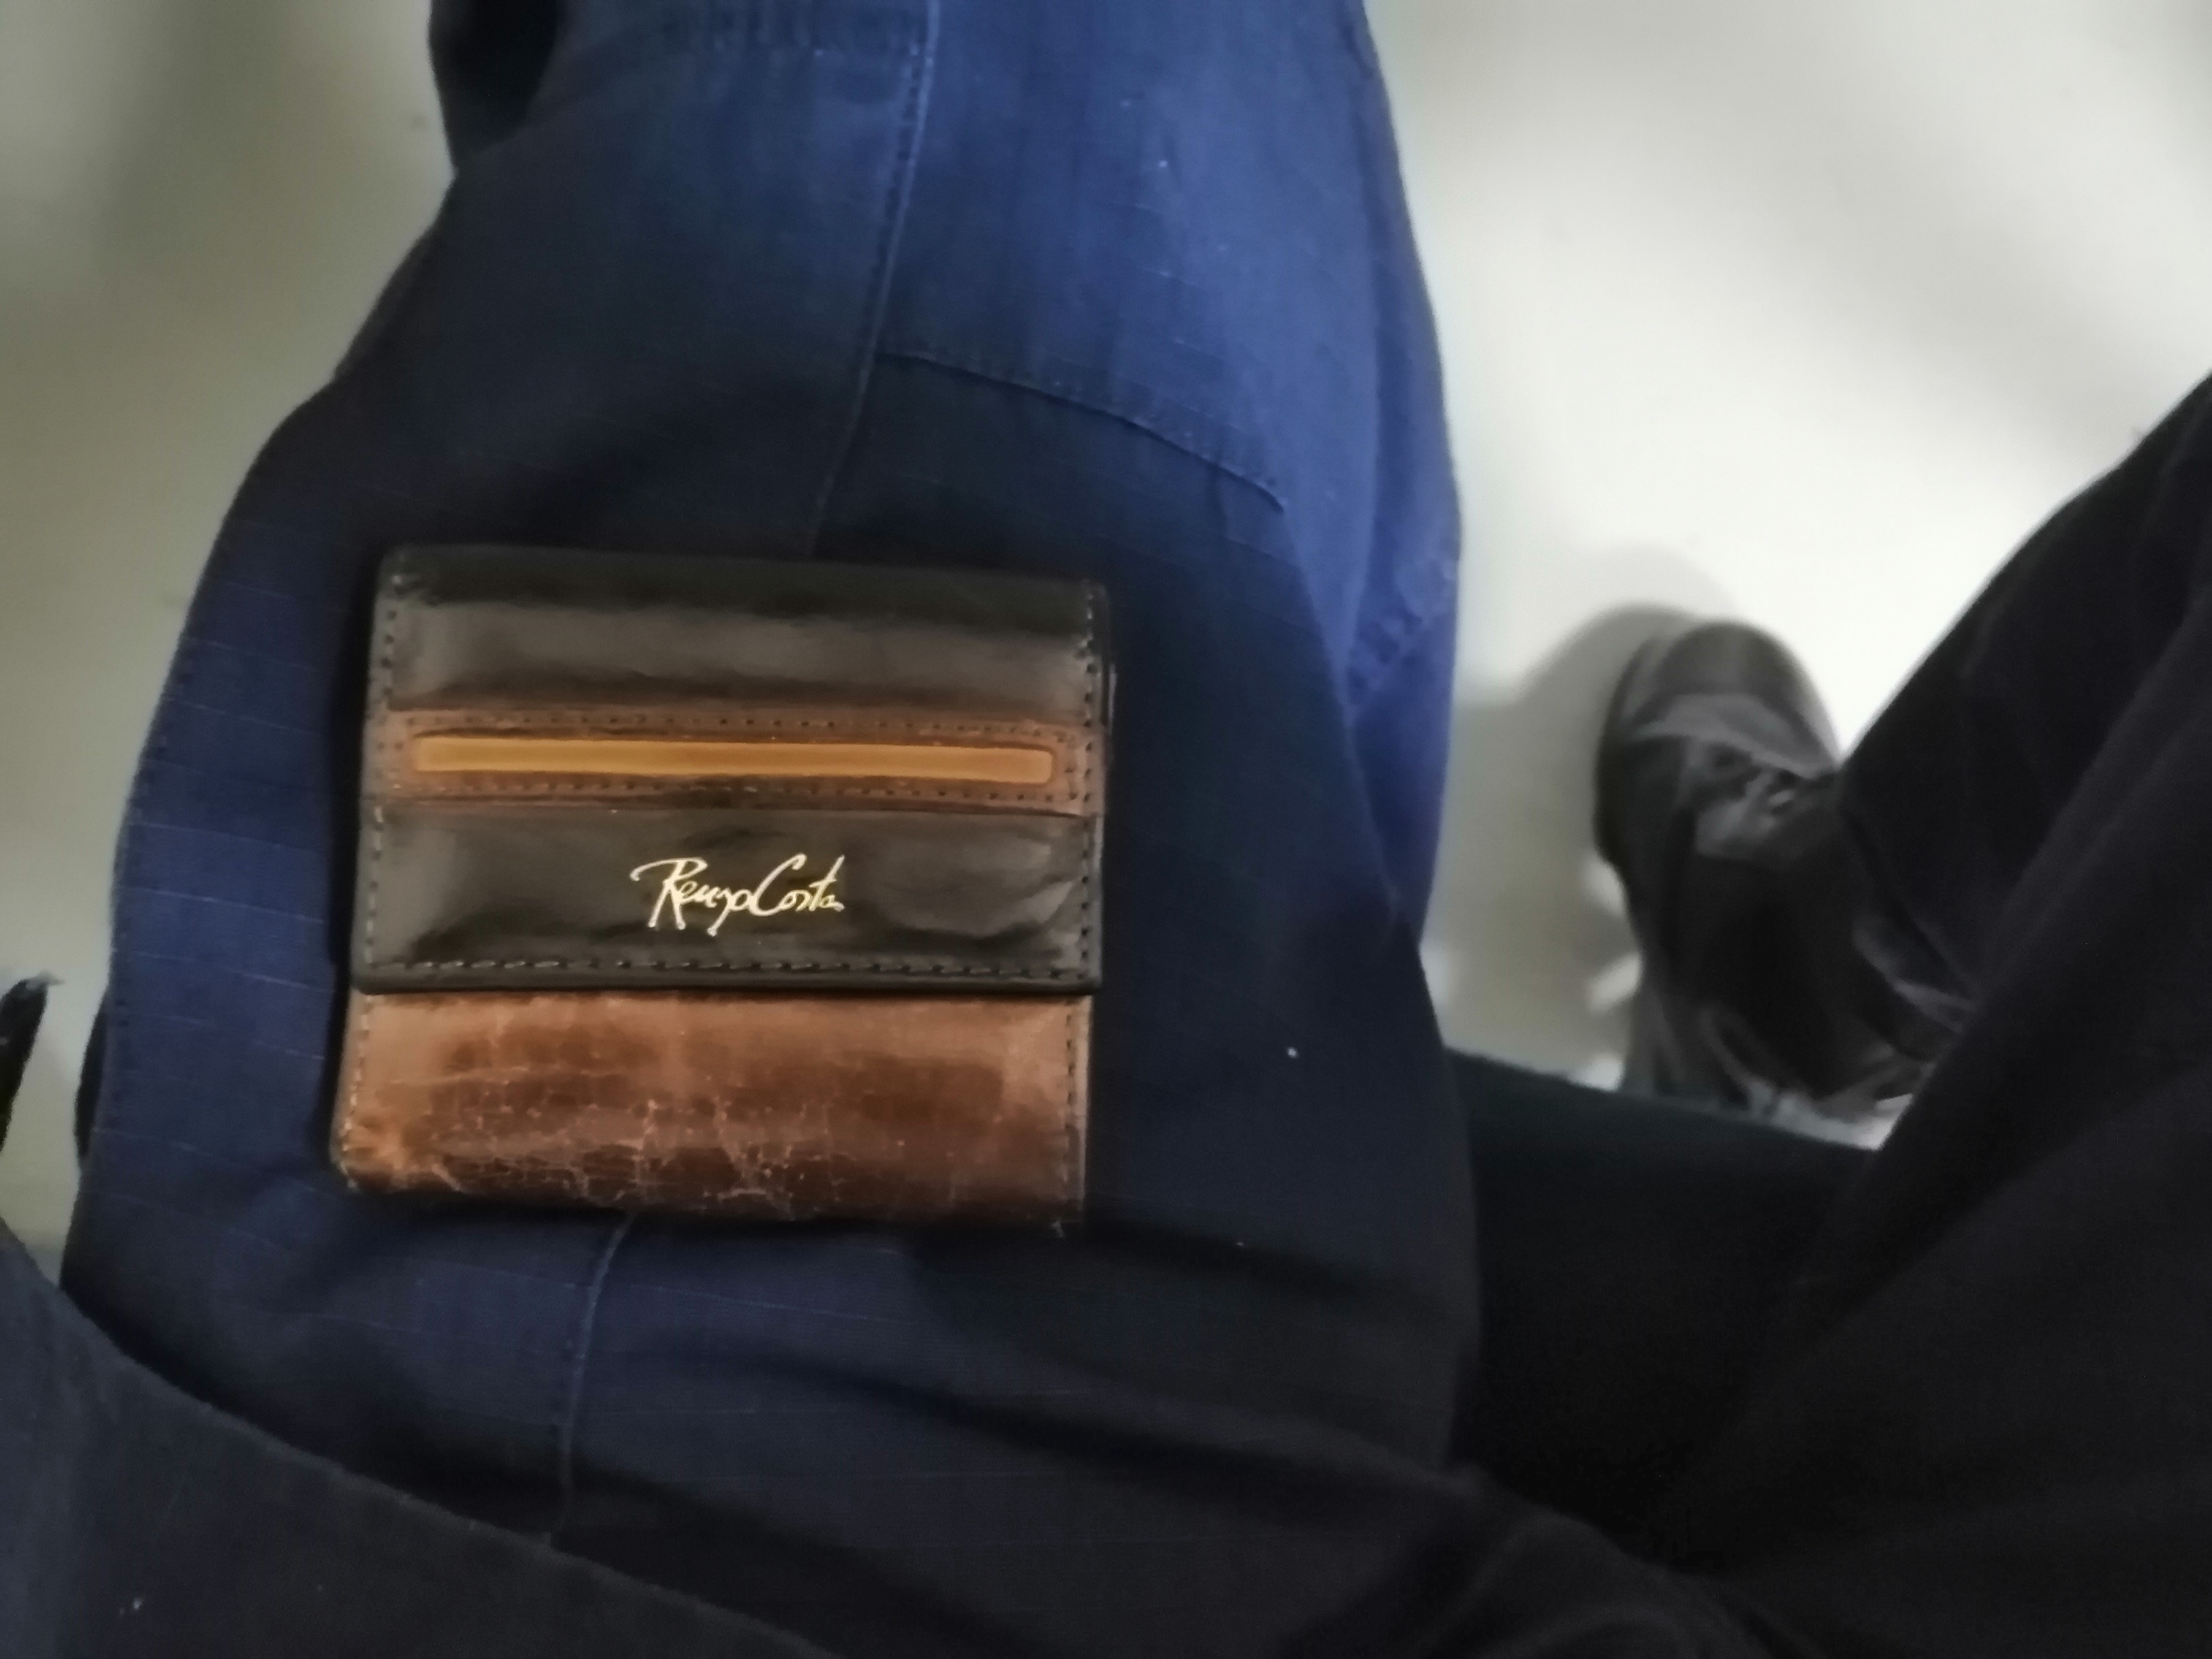monedero: (312, 519, 1116, 1251)
